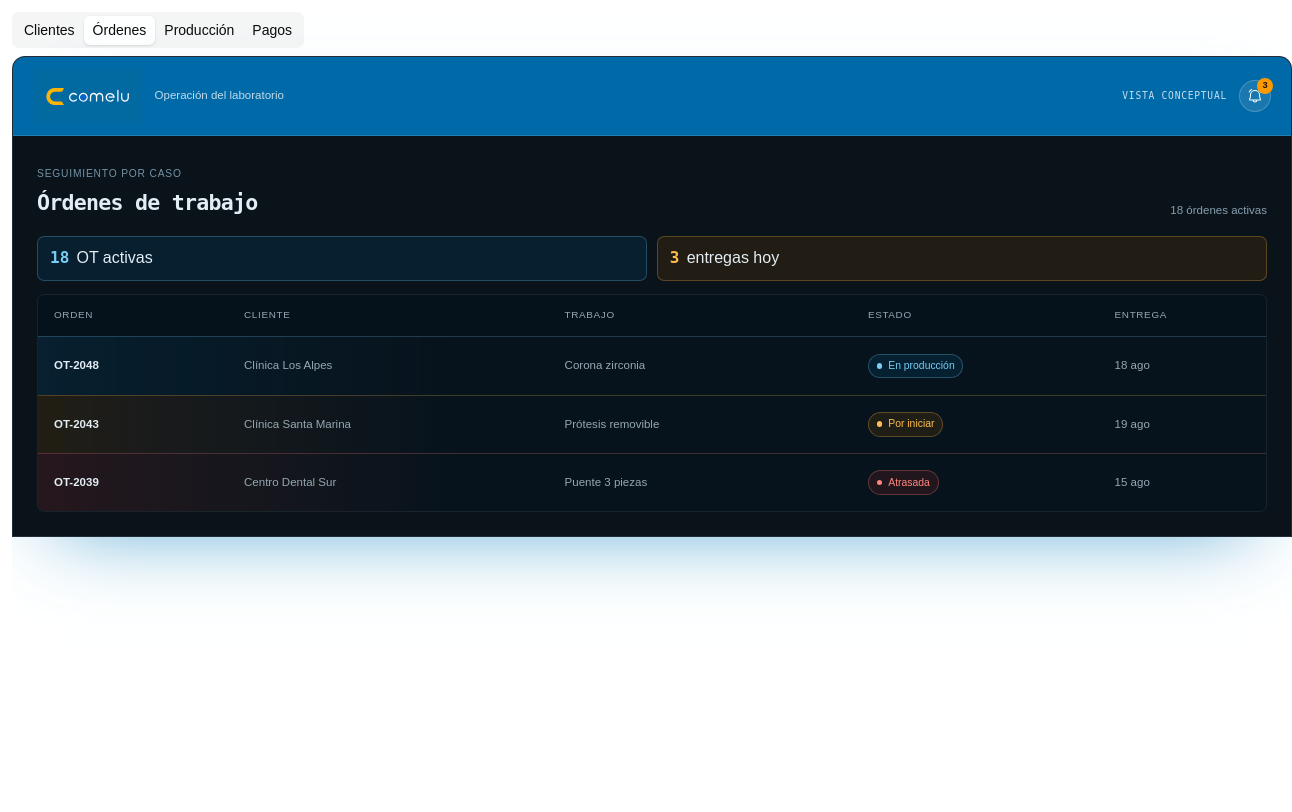
Test: HeroProductPreview › shows the orders preview by default and switches to payments
Expected: the text "OT-2048" is shown, x1=54 y1=359 x2=99 y2=371
Expected: the text "Corona zirconia" is shown, x1=565 y1=359 x2=645 y2=371
Click the tab "Pagos".
click(272, 30)  # box x1=243 y1=16 x2=301 y2=44
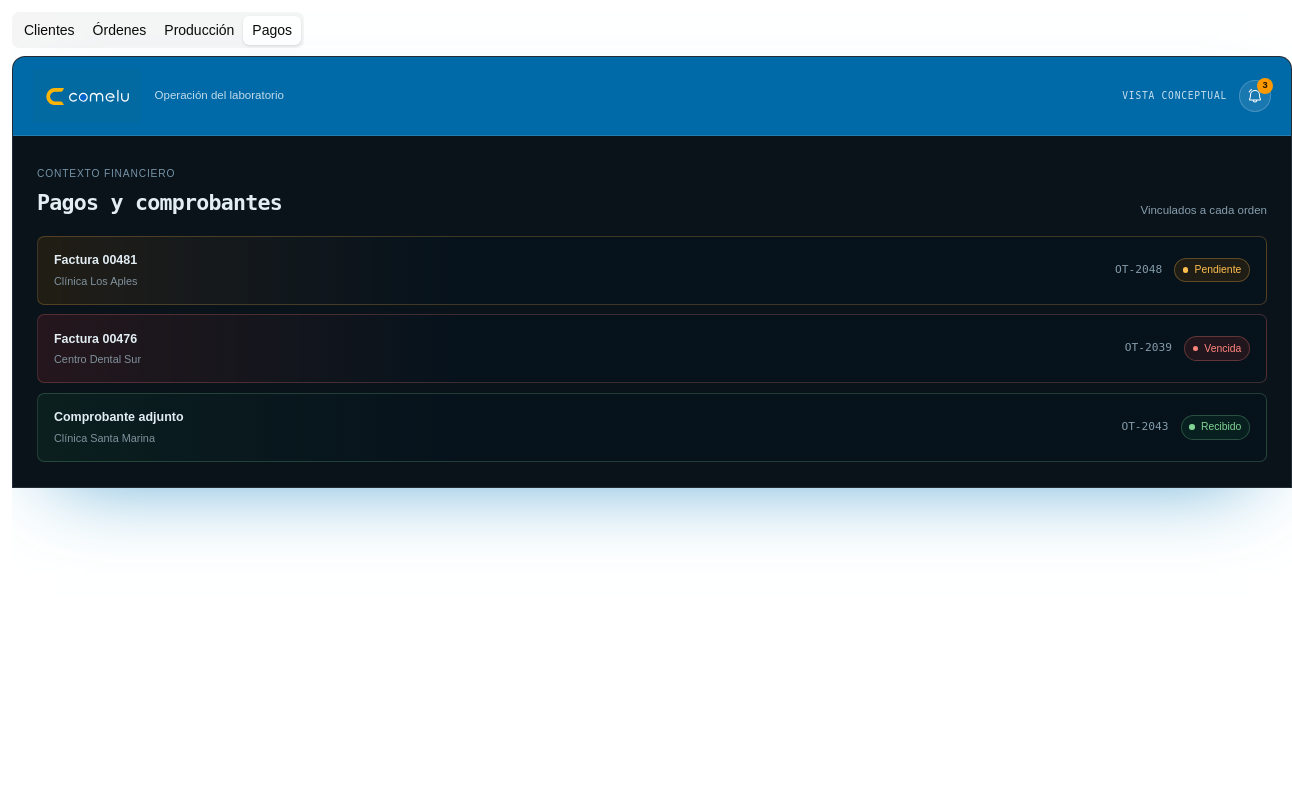
Expected: the text "Factura 00481" is shown, x1=54 y1=253 x2=137 y2=267
Expected: the text "Comprobante adjunto" is shown, x1=54 y1=410 x2=184 y2=424
